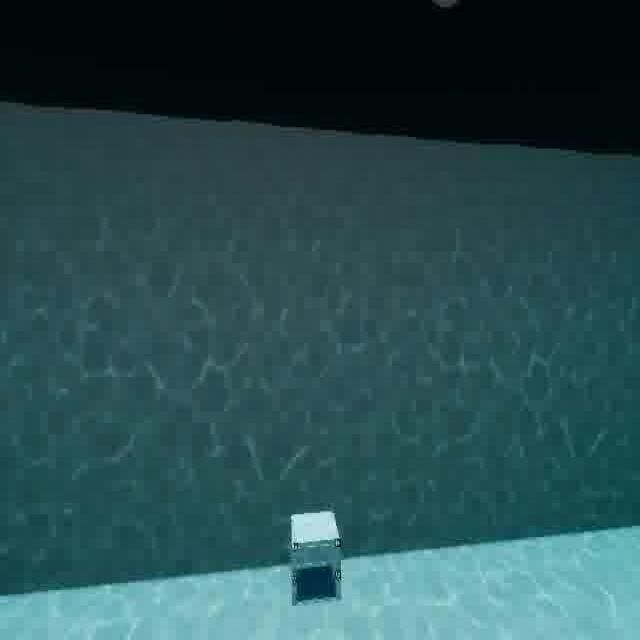Docking Station: (286, 499, 347, 608)
